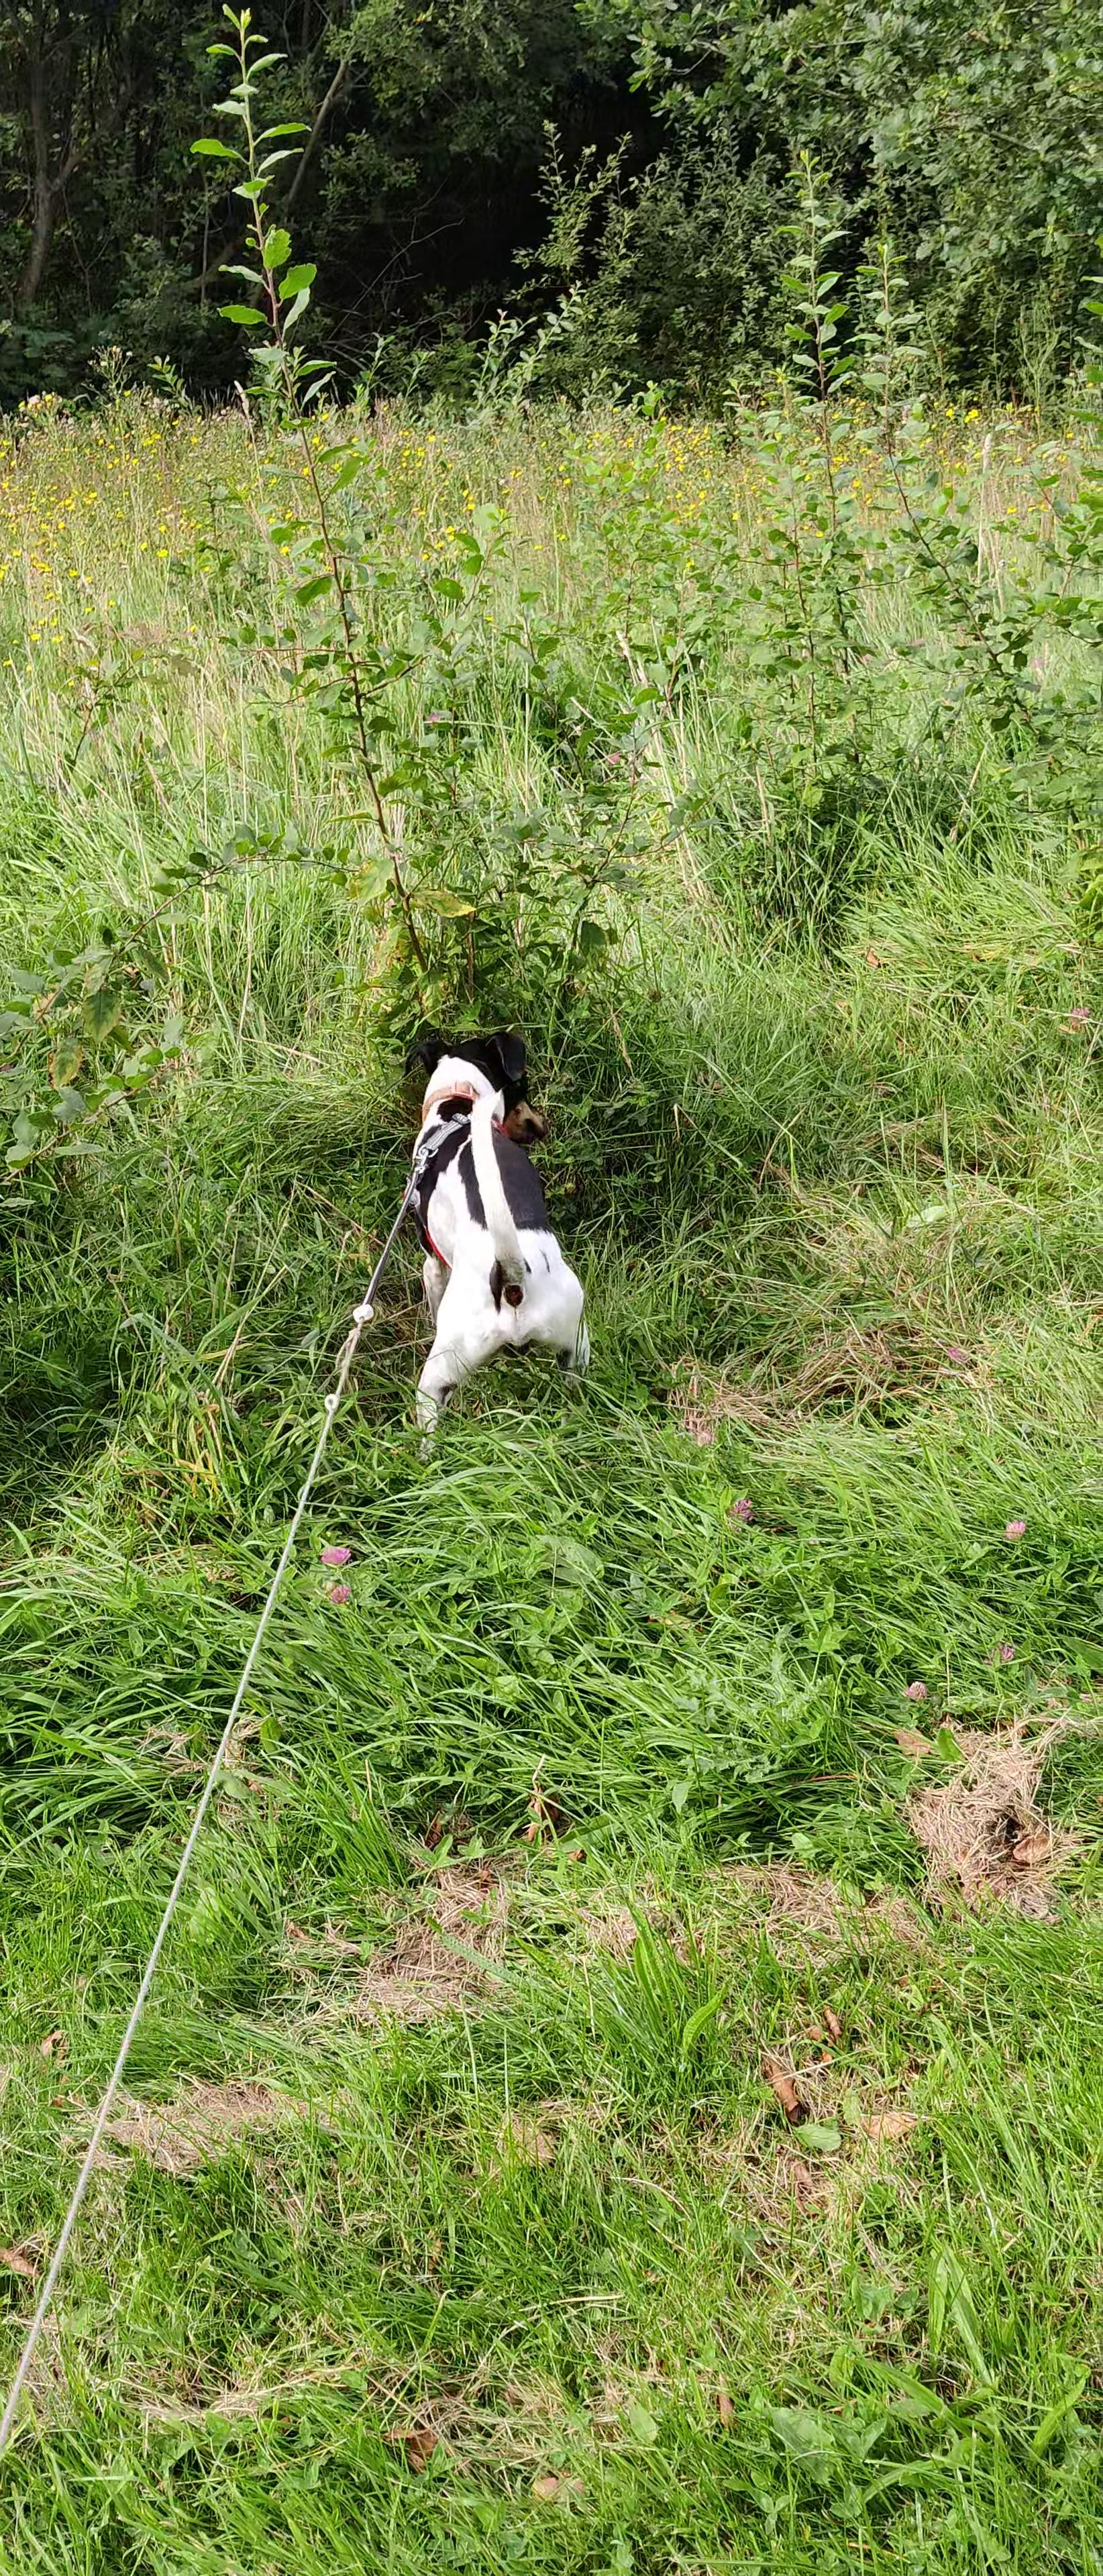Dog: (388, 1020, 603, 1464)
